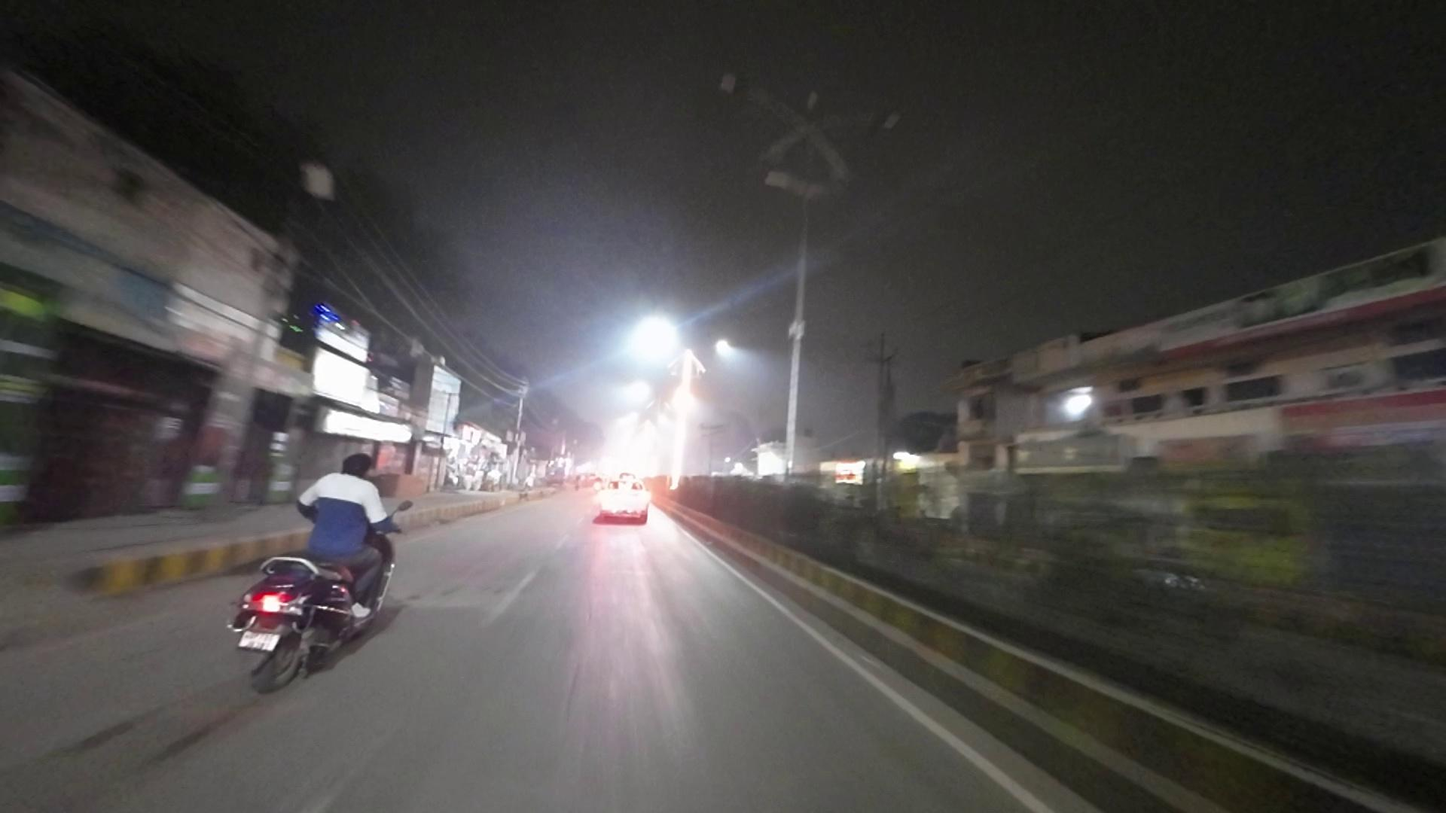streetlight: (719, 69, 798, 123), (820, 108, 904, 132)
